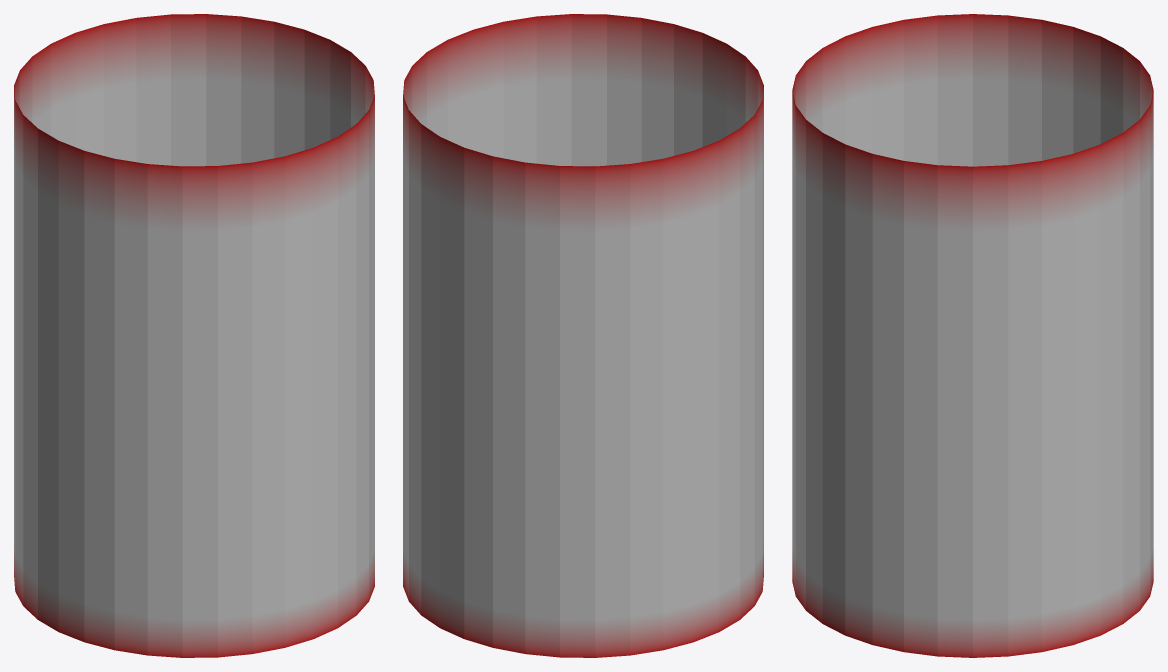
The model's file is SM_SandDisk_2.fbx.
3 renders of one model, left to right at view 1: azimuth 30°, elevation 25°; view 2: azimuth 150°, elevation 25°; view 3: azimuth 270°, elevation 25°, orthographic.
Parts seen in each view (by area): view 1: SandRing2; view 2: SandRing2; view 3: SandRing2.
Boxes of the visible parts, x1,y1,x2,y2 form: SandRing2: [14, 14, 374, 657]; SandRing2: [403, 14, 763, 657]; SandRing2: [792, 14, 1153, 657].
Size of the model in its own units: 2 by 3 by 2.
